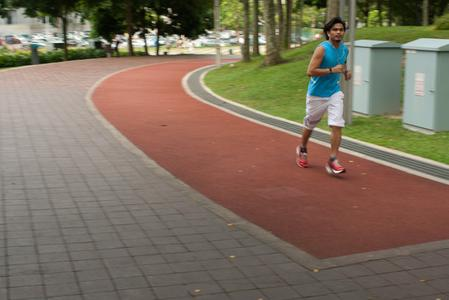person: (298, 19, 354, 175)
